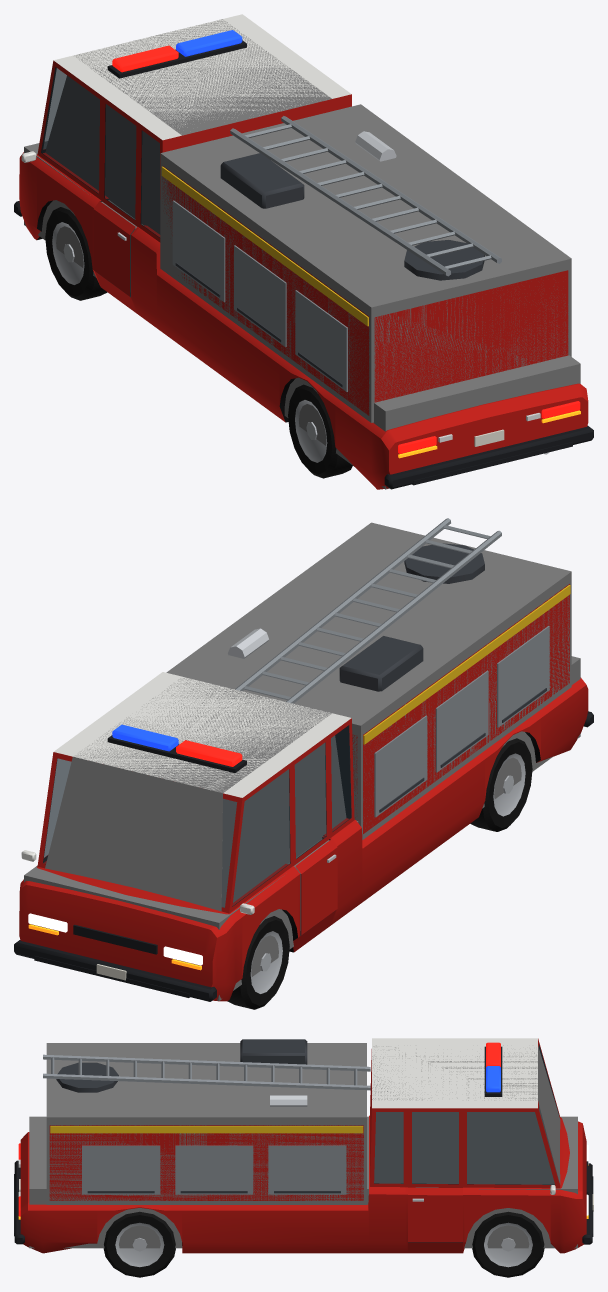
The model's file is firetruck.glb.
3 views of the same model, one above another, from view 1: azimuth 30°, elevation 25°; view 2: azimuth 150°, elevation 25°; view 3: azimuth 270°, elevation 25° (orthographic). The views are drawn at different scales.
Parts seen in each view (by area): view 1: firetruck_Body, firetruck, firetruck_Cabin, firetruck_Door_FL, firetruck_Bumper_R, firetruck_Wheel_RL, firetruck_Wheel_FL; view 2: firetruck, firetruck_Body, firetruck_Cabin, firetruck_Door_FL, firetruck_Bumper_F, firetruck_Wheel_FL, firetruck_Wheel_RL, firetruck_Grille; view 3: firetruck_Body, firetruck, firetruck_Cabin, firetruck_Door_FR, firetruck_Wheel_RR, firetruck_Wheel_FR, firetruck_Bumper_F, firetruck_Bumper_R.
Part boxes in pixels (left/top/right/bottom): firetruck_Body: left=19, top=30, right=588, bottom=489; firetruck: left=24, top=19, right=580, bottom=489; firetruck_Cabin: left=37, top=14, right=351, bottom=242; firetruck_Door_FL: left=93, top=97, right=139, bottom=296; firetruck_Bumper_R: left=384, top=425, right=593, bottom=489; firetruck_Wheel_RL: left=288, top=384, right=352, bottom=478; firetruck_Wheel_FL: left=45, top=207, right=107, bottom=300; firetruck: left=24, top=522, right=580, bottom=1000; firetruck_Body: left=19, top=518, right=588, bottom=1001; firetruck_Cabin: left=37, top=672, right=354, bottom=913; firetruck_Door_FL: left=292, top=735, right=337, bottom=934; firetruck_Bumper_F: left=14, top=940, right=216, bottom=1001; firetruck_Wheel_FL: left=227, top=916, right=289, bottom=1009; firetruck_Wheel_RL: left=470, top=738, right=532, bottom=831; firetruck_Grille: left=73, top=924, right=157, bottom=954; firetruck_Body: left=18, top=1039, right=588, bottom=1253; firetruck: left=29, top=1043, right=577, bottom=1248; firetruck_Cabin: left=370, top=1038, right=560, bottom=1188; firetruck_Door_FR: left=408, top=1108, right=462, bottom=1241; firetruck_Wheel_RR: left=103, top=1211, right=175, bottom=1277; firetruck_Wheel_FR: left=472, top=1211, right=544, bottom=1277; firetruck_Bumper_F: left=582, top=1163, right=593, bottom=1244; firetruck_Bumper_R: left=14, top=1160, right=24, bottom=1244.
Size of what is drawn, in the model's own units: 2.72 by 2.63 by 7.79.
